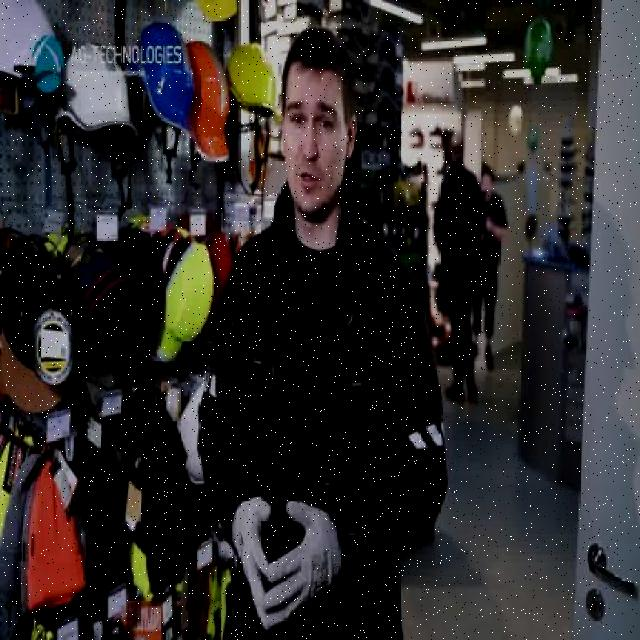Gloves: (263, 496, 342, 638), (232, 493, 272, 630)
Helmet: (132, 23, 200, 142), (55, 44, 140, 138), (0, 2, 69, 92), (186, 36, 232, 162), (230, 44, 278, 118)
